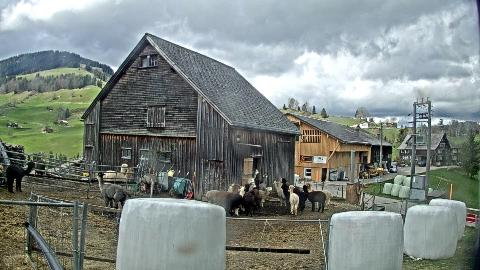car: (389, 166, 397, 172), (418, 162, 426, 166)
sheep: (96, 172, 130, 210), (5, 160, 35, 194), (280, 178, 306, 212), (305, 182, 333, 210), (214, 184, 240, 212), (102, 163, 128, 189), (302, 185, 326, 213), (225, 186, 247, 216), (206, 184, 236, 204), (234, 183, 256, 203), (113, 168, 135, 188), (274, 180, 290, 206), (241, 177, 256, 204), (142, 174, 160, 196), (288, 184, 300, 215), (254, 186, 272, 206), (243, 184, 254, 216), (254, 174, 268, 198), (33, 152, 45, 176), (252, 168, 258, 181)
